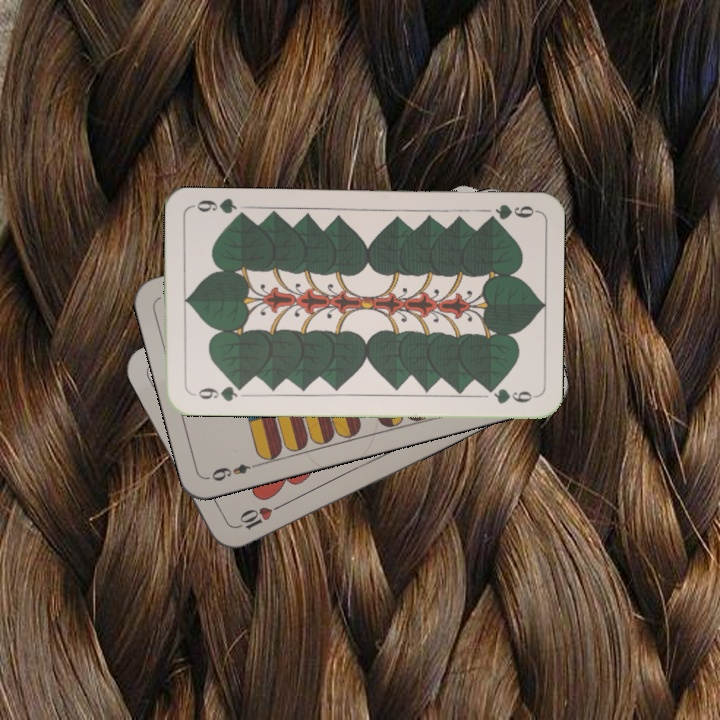E9: (207, 458, 263, 484)
G9: (480, 200, 538, 225), (187, 381, 246, 404)
H10: (230, 499, 286, 533)
